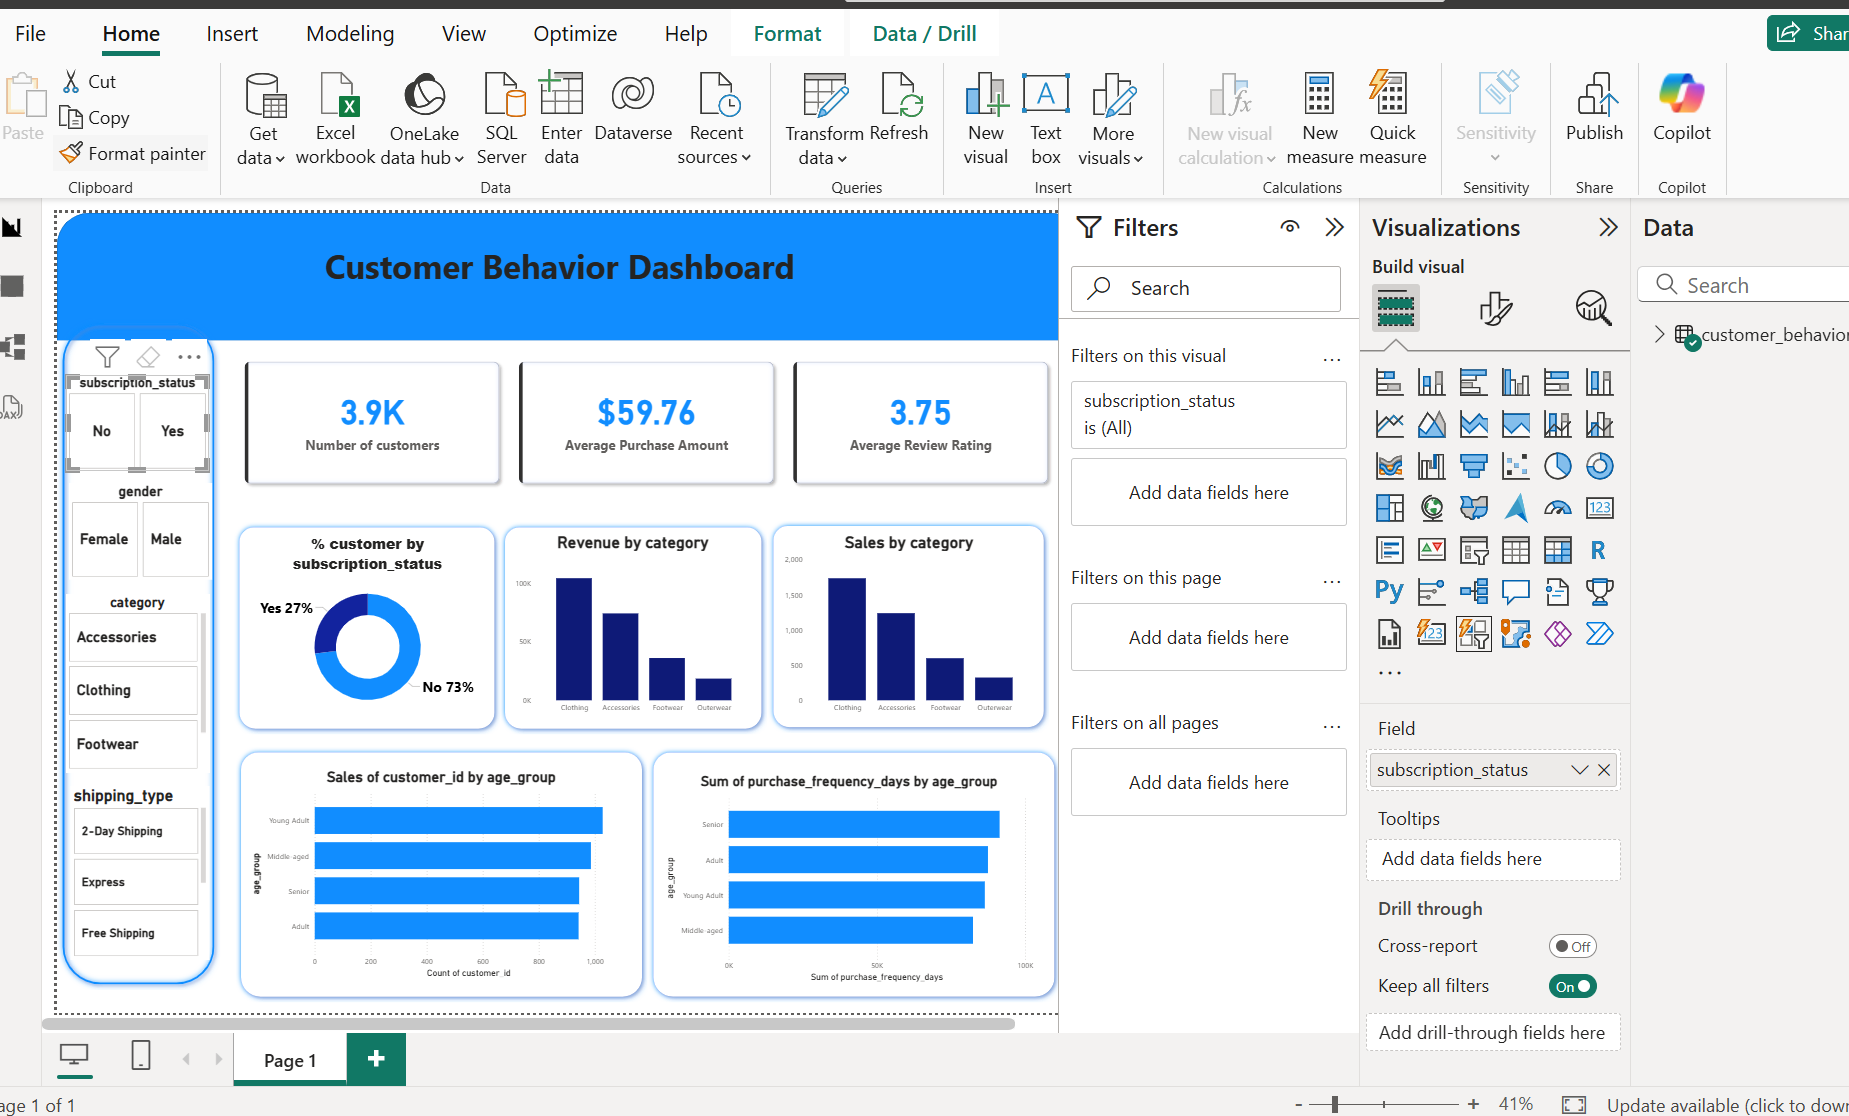

The page's visual inventory and layout, read from the dashboard file:
{"tool":"powerbi","page":{"name":"Page 1","canvas":[1700,1300],"ordinal":0},"visuals":[{"type":"cardVisual","fields":{"Data":["customer_behavior customer.Number of customers","customer_behavior customer.Average Purchase Amount","customer_behavior customer.Average Review Rating"]},"box":[287.5,225,1342.5,232.5],"z":0},{"type":"shape","box":[0,0,1667.5,207.5],"z":1000},{"type":"textbox","box":[0,45,1612.5,125],"z":2000},{"type":"shape","box":[287.5,502.5,432.5,345],"z":3000},{"type":"donutChart","title":"% customer by subscription_status","fields":{"Category":["customer_behavior customer.subscription_status"],"Y":["CountNonNull(customer_behavior customer.customer_id)"]},"box":[307.5,522.5,395,302.5],"z":4000},{"type":"shape","box":[720,502.5,435,345],"z":5000},{"type":"shape","box":[1155,500,457.5,345],"z":6000},{"type":"clusteredColumnChart","title":"Revenue by category","fields":{"Y":["Sum(customer_behavior customer.purchase_amount)"],"Category":["customer_behavior customer.category"]},"box":[740,520,395,302.5],"z":7000},{"type":"clusteredColumnChart","title":"Sales by category","fields":{"Y":["CountNonNull(customer_behavior customer.customer_id)"],"Category":["customer_behavior customer.category"]},"box":[1177.5,520,415,302.5],"z":8000},{"type":"shape","box":[0,170,265,1092.5],"z":9000},{"type":"advancedSlicerVisual","fields":{"Values":["customer_behavior customer.subscription_status"]},"box":[15,262.5,232.5,157.5],"z":10000},{"type":"advancedSlicerVisual","fields":{"Values":["customer_behavior customer.gender"]},"box":[20,440,232.5,157.5],"z":11000},{"type":"advancedSlicerVisual","fields":{"Values":["customer_behavior customer.category"]},"box":[15,620,232.5,290],"z":12000},{"type":"advancedSlicerVisual","fields":{"Values":["customer_behavior customer.shipping_type"]},"box":[22.5,932.5,225,282.5],"z":12001},{"type":"shape","box":[960,867.5,670,415],"z":12003},{"type":"shape","box":[290,867.5,670,415],"z":12004},{"type":"clusteredBarChart","title":"Sales of customer_id by age_group","fields":{"Y":["CountNonNull(customer_behavior customer.customer_id)"],"Category":["customer_behavior customer.age_group"]},"box":[310,902.5,630,345],"z":12005},{"type":"clusteredBarChart","fields":{"Y":["Sum(customer_behavior customer.purchase_frequency_days)"],"Category":["customer_behavior customer.age_group"]},"box":[982.5,910,610,345],"z":12006}]}

Visuals, with their boxes on the page's 1700x1300 design canvas (x1, y1, x2, y2). These are canvas units, not pixel positions in the 1849x1116 screenshot, which may show the page scaled, cropped or inside an application window:
cardVisual - customer_behavior customer.Number of customers x customer_behavior customer.Average Purchase Amount: (288, 225, 1630, 458)
shape: (0, 0, 1668, 208)
textbox: (0, 45, 1612, 170)
shape: (288, 502, 720, 848)
"% customer by subscription_status" donutChart: (308, 522, 702, 825)
shape: (720, 502, 1155, 848)
shape: (1155, 500, 1612, 845)
"Revenue by category" clusteredColumnChart: (740, 520, 1135, 822)
"Sales by category" clusteredColumnChart: (1178, 520, 1592, 822)
shape: (0, 170, 265, 1262)
advancedSlicerVisual - customer_behavior customer.subscription_status: (15, 262, 248, 420)
advancedSlicerVisual - customer_behavior customer.gender: (20, 440, 252, 598)
advancedSlicerVisual - customer_behavior customer.category: (15, 620, 248, 910)
advancedSlicerVisual - customer_behavior customer.shipping_type: (22, 932, 248, 1215)
shape: (960, 868, 1630, 1282)
shape: (290, 868, 960, 1282)
"Sales of customer_id by age_group" clusteredBarChart: (310, 902, 940, 1248)
clusteredBarChart - Sum(customer_behavior customer.purchase_frequency_days) x customer_behavior customer.age_group: (982, 910, 1592, 1255)
